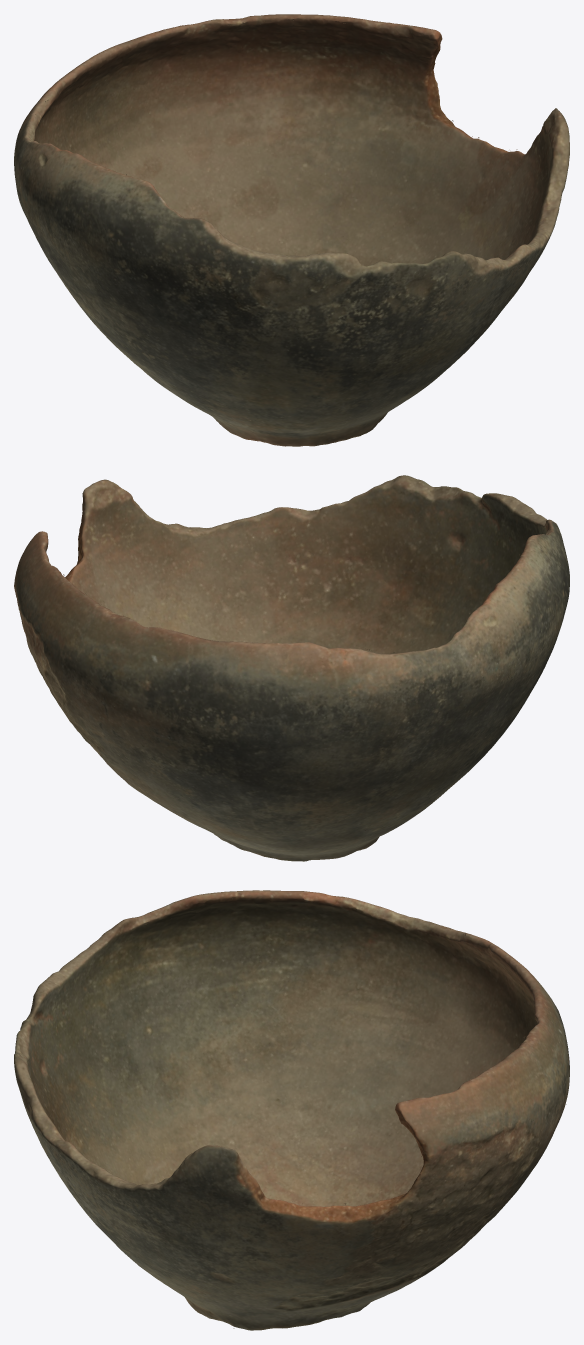
3 views of the same model, one above another, from view 1: azimuth 30°, elevation 25°; view 2: azimuth 150°, elevation 25°; view 3: azimuth 270°, elevation 25° (orthographic).
Parts seen in each view (by area): view 1: Object_2, Object_3; view 2: Object_2, Object_3; view 3: Object_2, Object_3.
Part boxes in pixels (x1=…): Object_2: x1=14, y1=14, x2=569, y2=446; Object_3: x1=14, y1=15, x2=552, y2=437; Object_2: x1=14, y1=476, x2=569, y2=861; Object_3: x1=16, y1=475, x2=569, y2=854; Object_2: x1=14, y1=890, x2=569, y2=1330; Object_3: x1=15, y1=891, x2=568, y2=1329.
Size of the model in its own units: 0.3641 by 0.2288 by 0.3634.
1 material, 1 textured.
